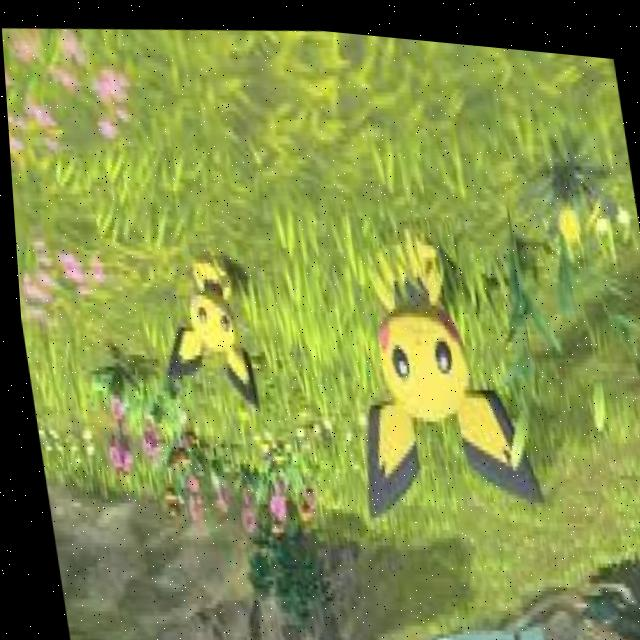pichu: (299, 218, 543, 525), (148, 208, 263, 425)
